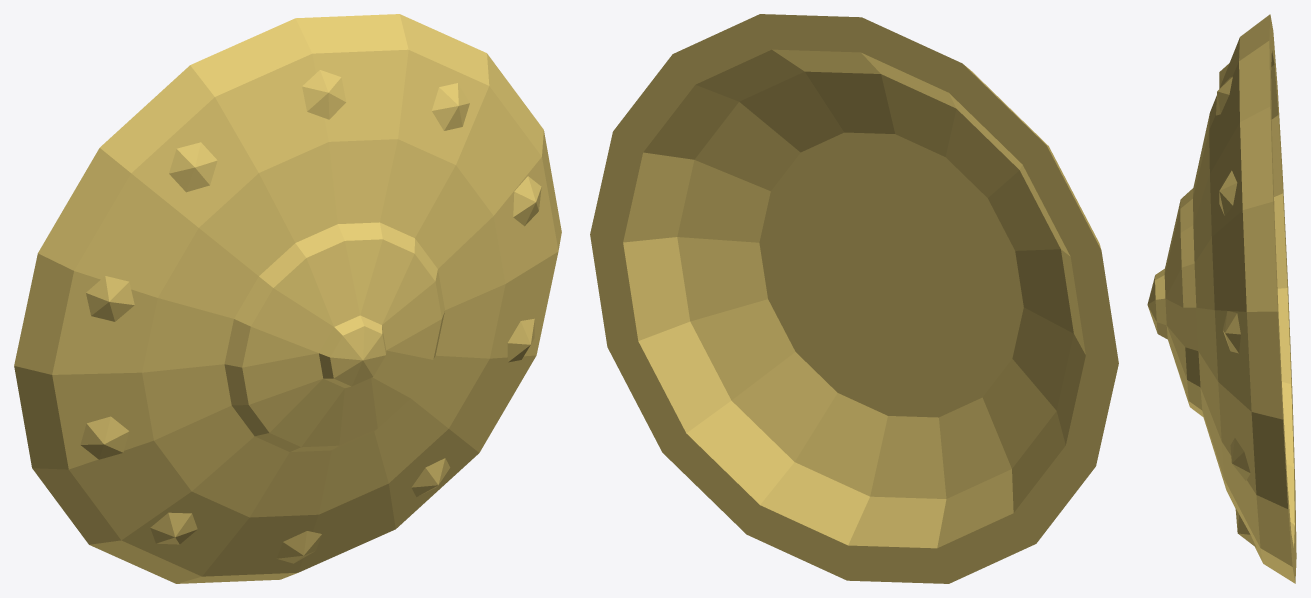
File: Escudos.fbx
3 renders of one model, left to right at view 1: azimuth 30°, elevation 25°; view 2: azimuth 150°, elevation 25°; view 3: azimuth 270°, elevation 25°, orthographic. The views are drawn at different scales.
Visible parts, largest first — view 1: default002; view 2: default002; view 3: default002.
Part boxes in pixels (<box>): default002: <box>14,14,561,583</box>; default002: <box>590,14,1118,583</box>; default002: <box>1147,14,1296,583</box>.
Size of the model in its own units: 21.65 by 21.62 by 5.65.
1 material, 1 textured.
